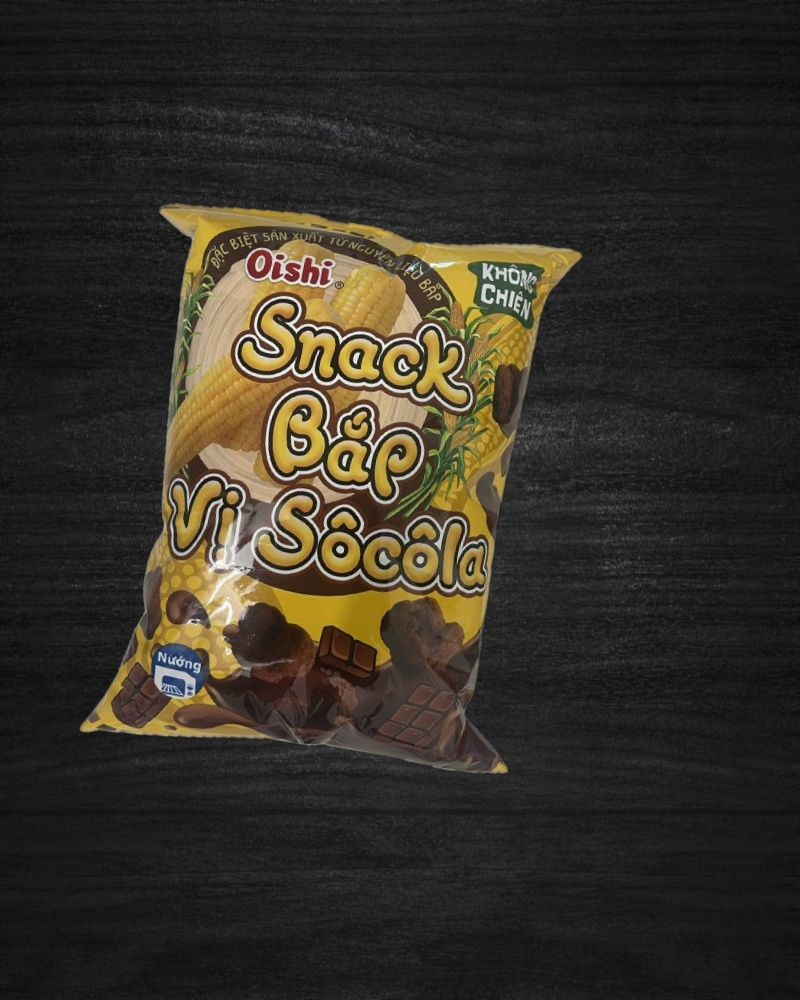Snack socola: (72, 182, 600, 795)
